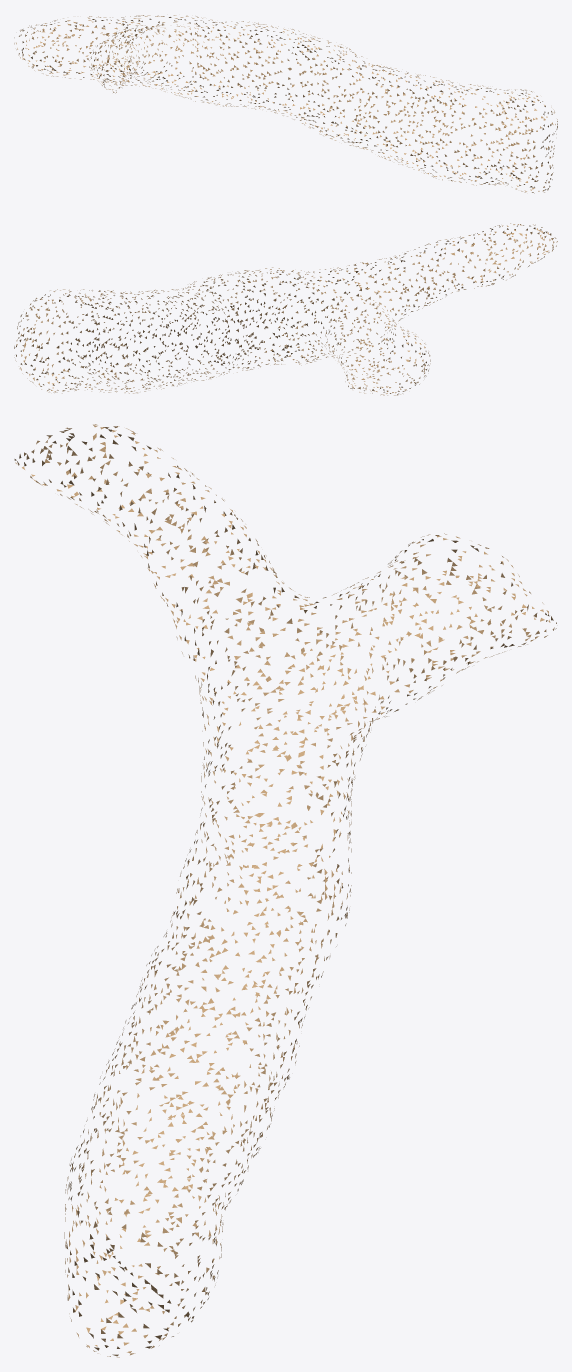
The model's file is morph_006.glb.
The picture shows the model from 3 angles, top to bottom: view 1: azimuth 30°, elevation 25°; view 2: azimuth 150°, elevation 25°; view 3: azimuth 270°, elevation 25°; orthographic projection. The views are drawn at different scales.
Bounding box in the file's own units: 128 × 66.06 × 63.54.
